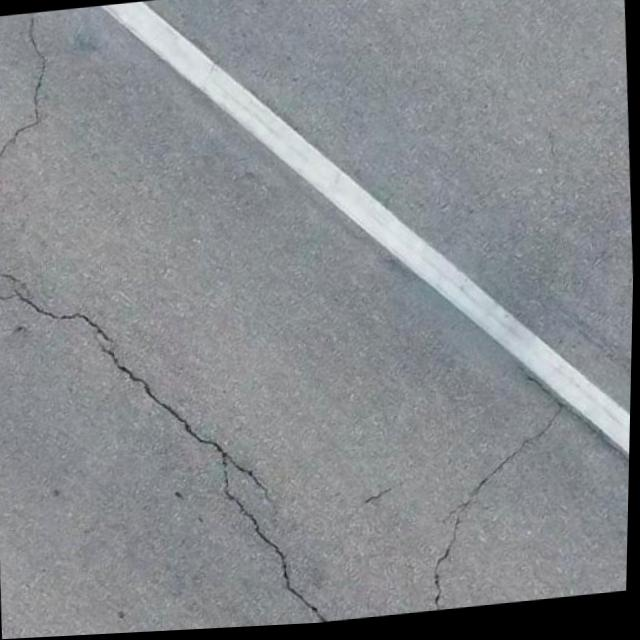Crack: (31, 318, 275, 557), (429, 422, 570, 616), (0, 13, 81, 306), (265, 523, 358, 629)
